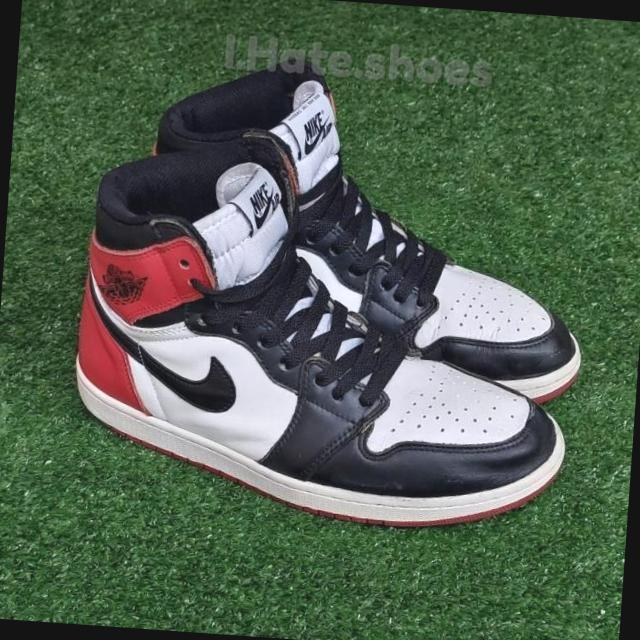nike_fake_jordan: (64, 120, 590, 538), (142, 56, 600, 402)
